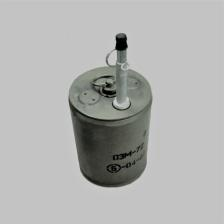OZM-72: (64, 55, 158, 188)
